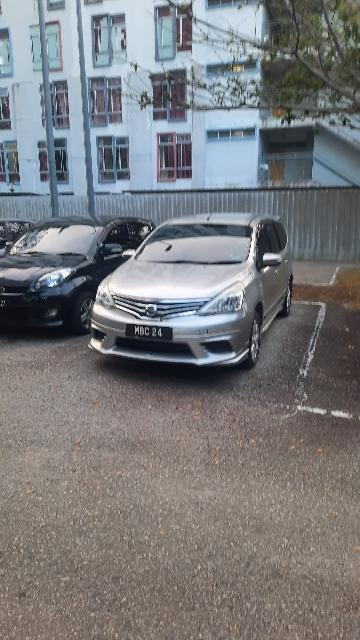License_Plate: (126, 323, 177, 348)
car: (89, 212, 299, 373)
